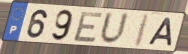6: (26, 8, 49, 40)
9: (51, 9, 76, 42)
A: (147, 17, 174, 48)
E: (71, 11, 105, 43)
I: (132, 13, 151, 48)
U: (98, 11, 131, 47)
